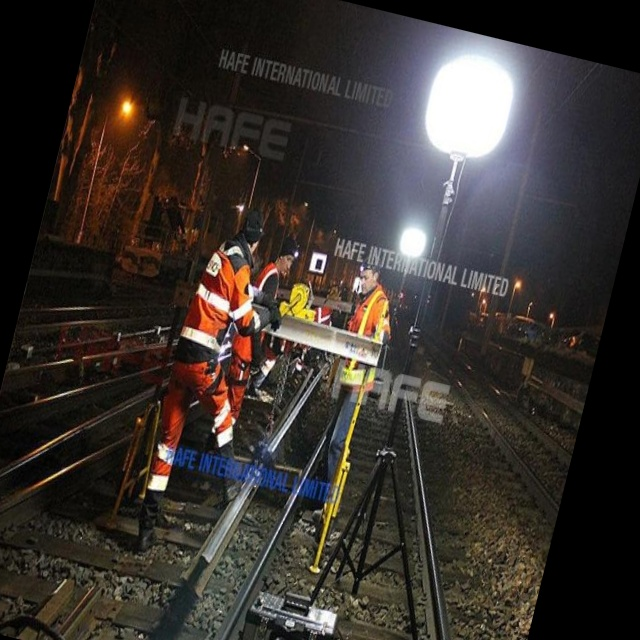Con_Chaleco: (176, 239, 260, 368), (344, 289, 400, 348)
